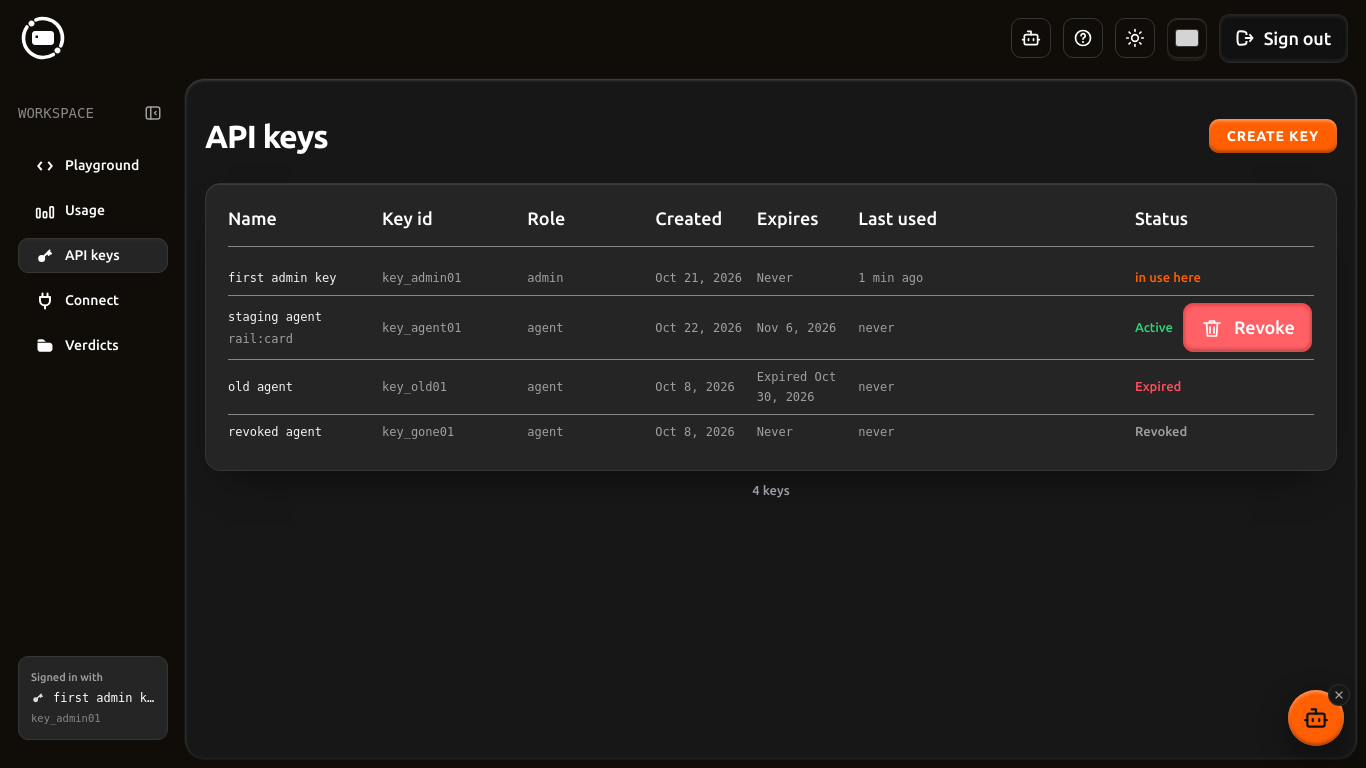
Test: the dashboard › shows why a revoke failed instead of closing as if it had worked
This screenshot has width=1366, height=768.
Click the button "Revoke": (1247, 328) [1183,303,1312,352]
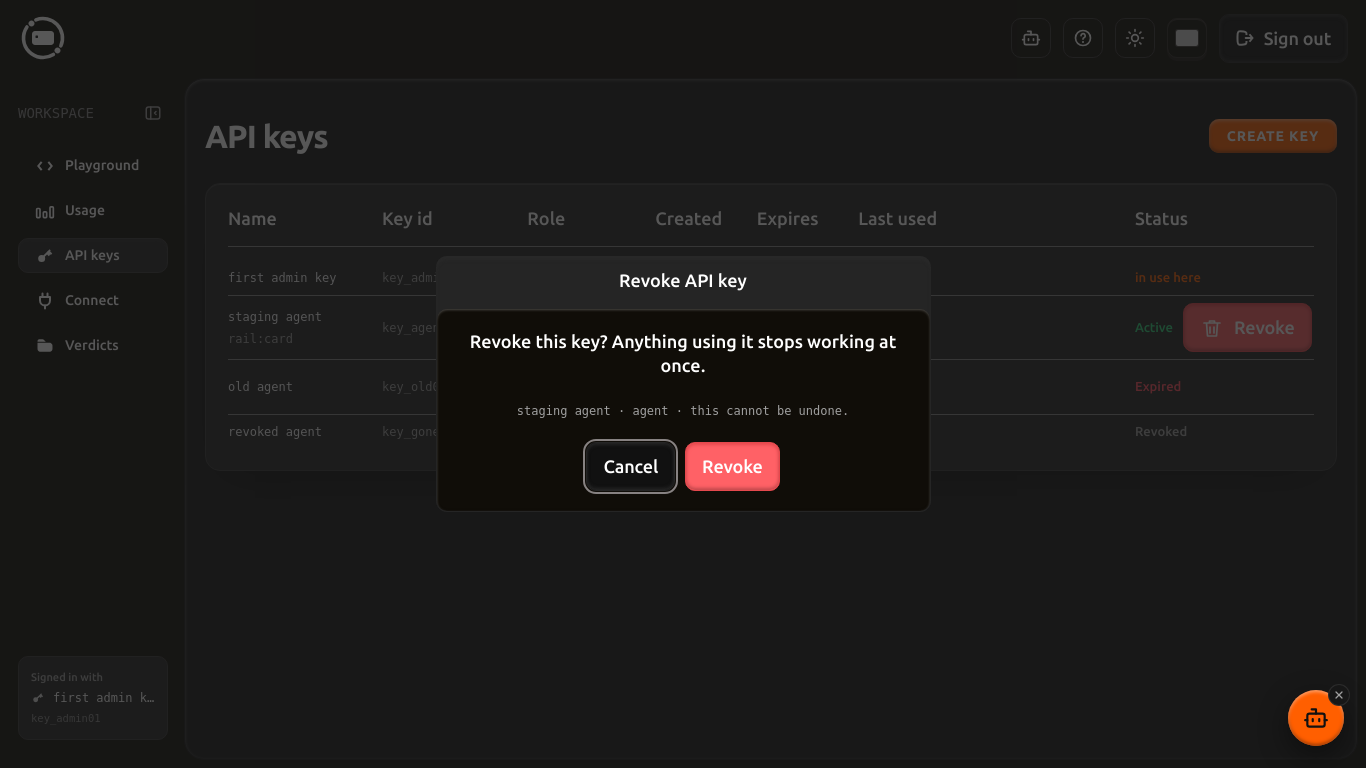
Click the button "Revoke": (732, 467) [685,442,780,491]
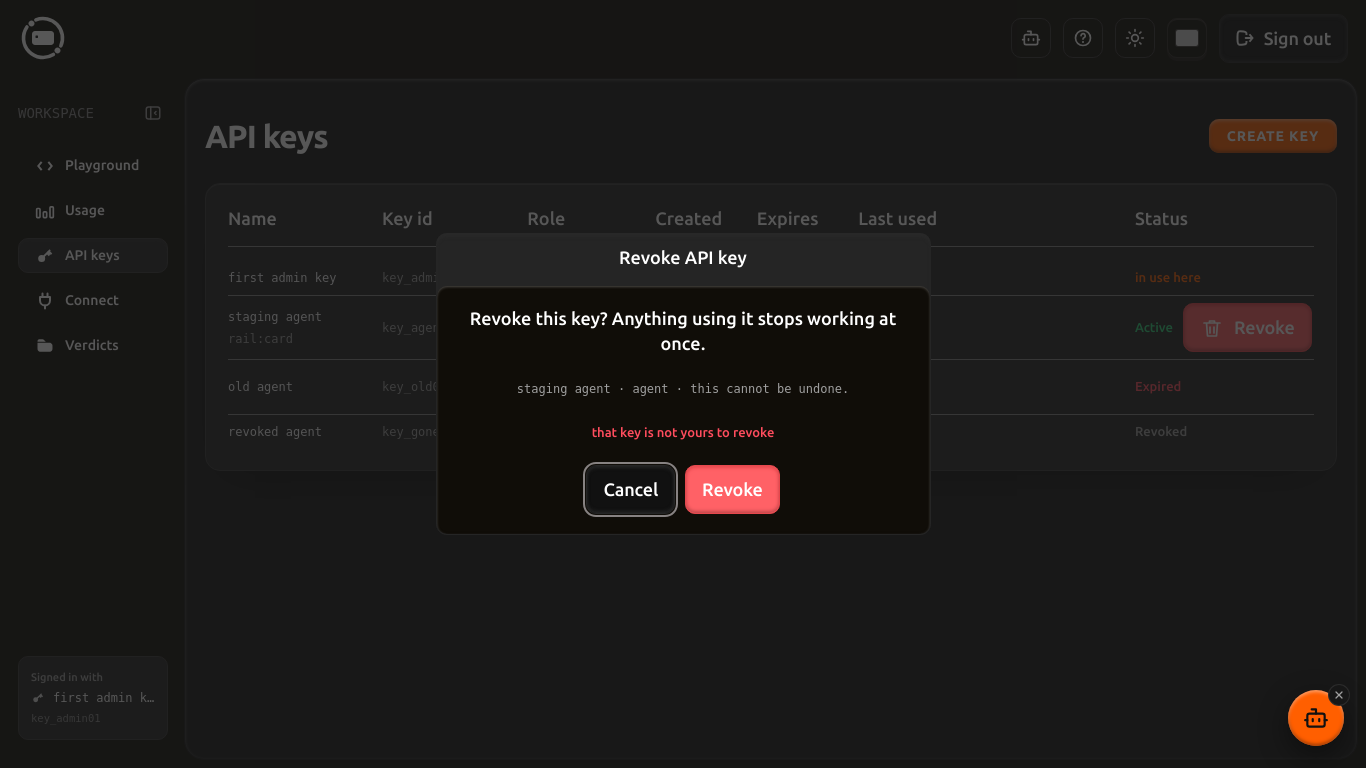
Expected: the dialog is shown, [436,234,930,535]
Expected: the message reads "that key is not yours to revoke", [592,425,774,439]
